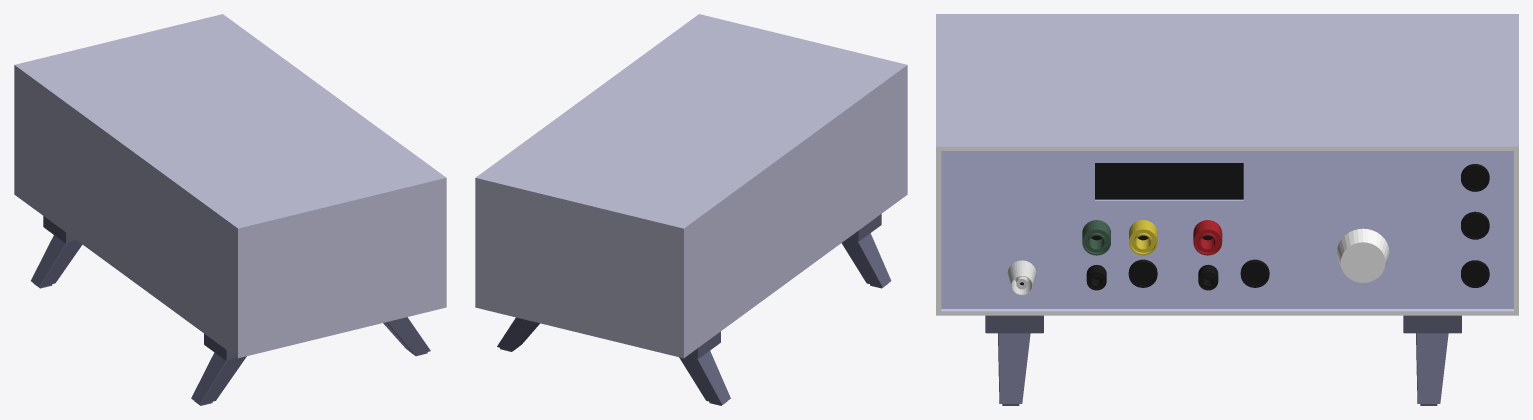
The model's file is amperageGenerator.glb.
3 views of the same model, side by side, from view 1: azimuth 30°, elevation 25°; view 2: azimuth 150°, elevation 25°; view 3: azimuth 270°, elevation 25° (orthographic). The views are drawn at different scales.
Parts seen in each view (by area): view 1: counter; view 2: counter; view 3: counter.
Boxes of the visible parts, x1,y1,x2,y2 form: counter: (14, 14, 446, 405); counter: (475, 14, 907, 405); counter: (936, 14, 1518, 405).
Size of the model in its own units: 58.7 by 46.46 by 96.17.
